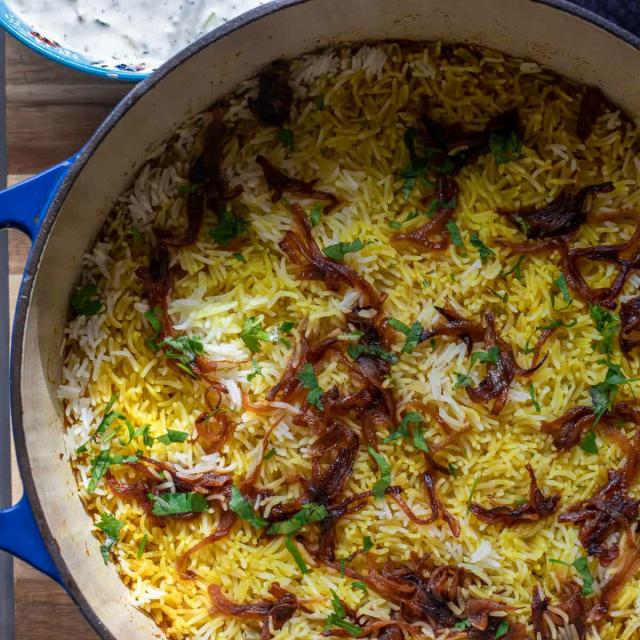Biryani: (63, 39, 640, 640)
